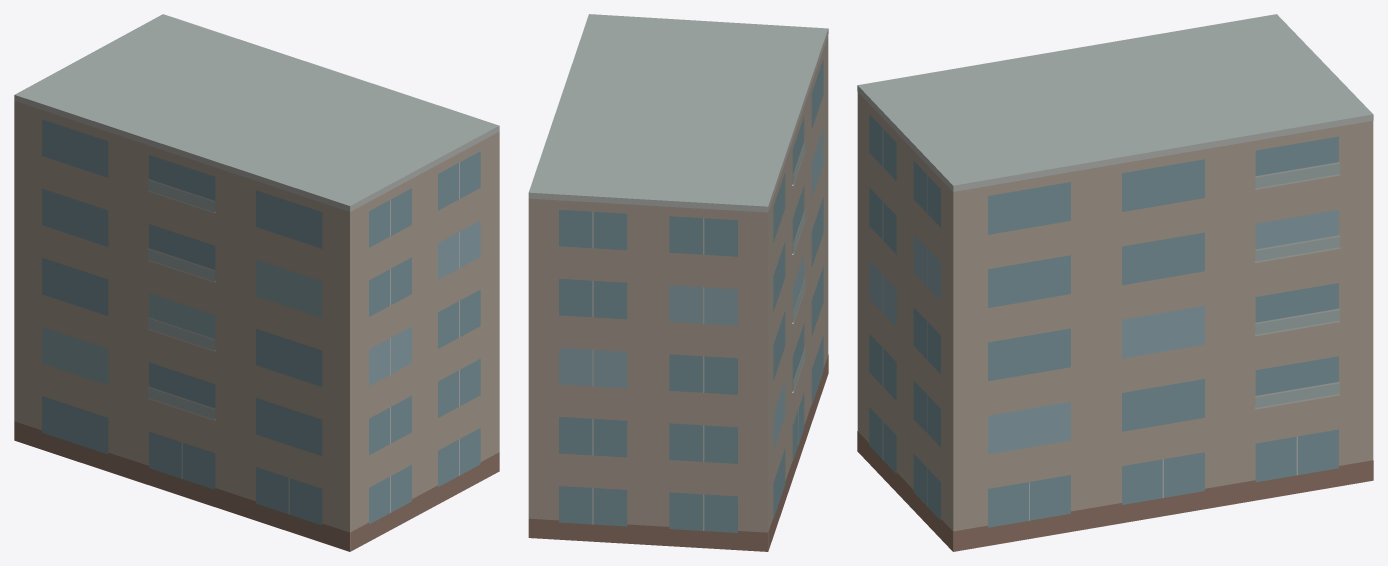
File: survey-upis-32751107.glb
The picture shows the model from 3 angles, left to right: view 1: azimuth 30°, elevation 25°; view 2: azimuth 150°, elevation 25°; view 3: azimuth 270°, elevation 25°; orthographic projection. The views are drawn at different scales.
Visible parts, largest first — view 1: survey-upis-32751107.tmp; view 2: survey-upis-32751107.tmp; view 3: survey-upis-32751107.tmp.
Part boxes in pixels (left/top/right/bottom): survey-upis-32751107.tmp: left=14, top=14, right=499, bottom=551; survey-upis-32751107.tmp: left=528, top=14, right=828, bottom=551; survey-upis-32751107.tmp: left=857, top=14, right=1373, bottom=551.
Bounding box in the file's own units: 14.34 × 14.25 × 18.21.
